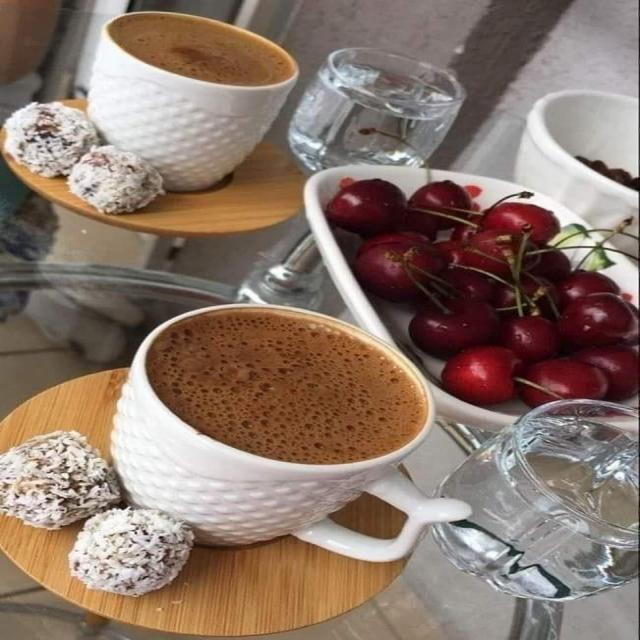cup-handle: (107, 301, 470, 564), (82, 10, 300, 194)
glass-normal: (425, 398, 637, 603), (289, 50, 464, 169)
